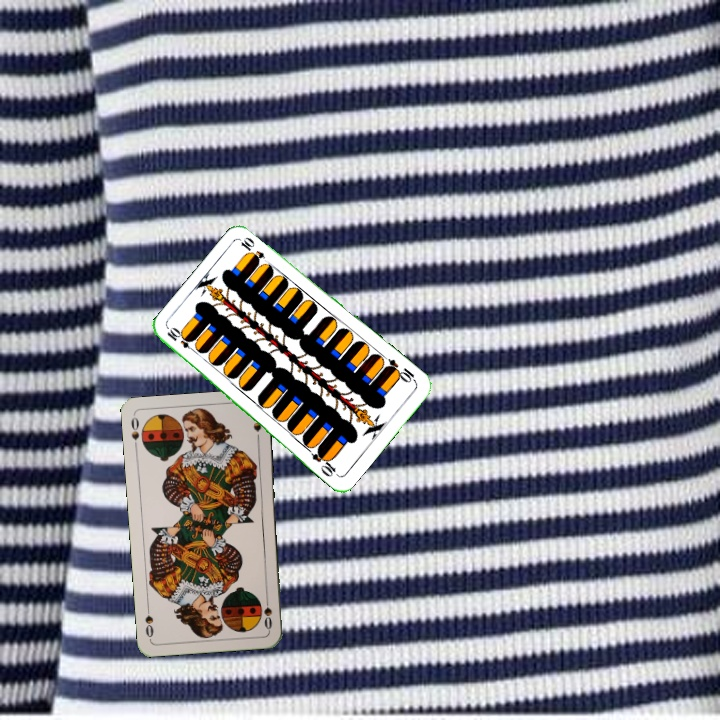E10: (163, 324, 199, 355), (382, 355, 419, 385)
SO: (260, 592, 275, 632), (127, 413, 142, 453)
